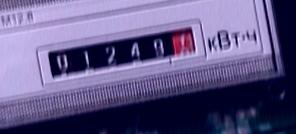0: (55, 50, 71, 72)
1: (80, 47, 93, 68)
2: (104, 44, 119, 65)
4: (129, 40, 142, 60)
7: (176, 29, 190, 49)
9: (151, 37, 167, 59)
screen: (28, 20, 207, 87)
